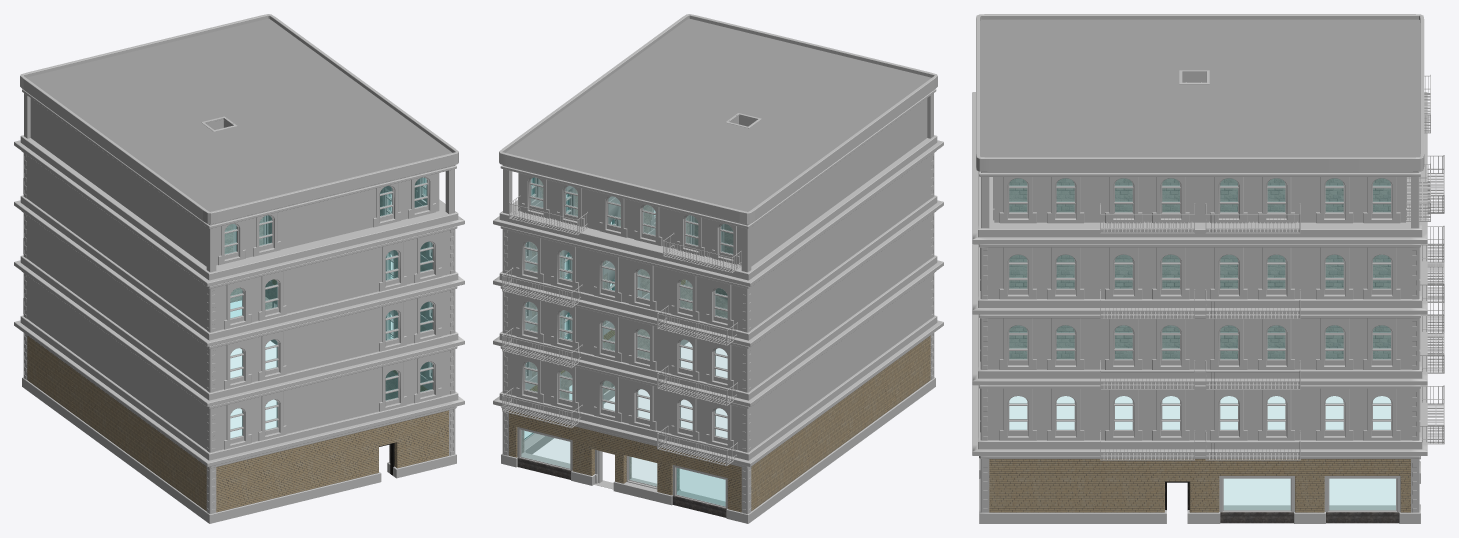
File: SM_Building19_V2.fbx
3 views of the same model, side by side, from view 1: azimuth 30°, elevation 25°; view 2: azimuth 150°, elevation 25°; view 3: azimuth 270°, elevation 25° (orthographic). The views are drawn at different scales.
Visible parts, largest first — view 1: SM_Building19_V2; view 2: SM_Building19_V2; view 3: SM_Building19_V2.
Boxes of the visible parts, x1,y1,x2,y2 form: SM_Building19_V2: [14, 14, 464, 523]; SM_Building19_V2: [493, 14, 943, 523]; SM_Building19_V2: [972, 14, 1444, 523].
Bounding box in the file's own units: 1905 × 2102 × 2453.
